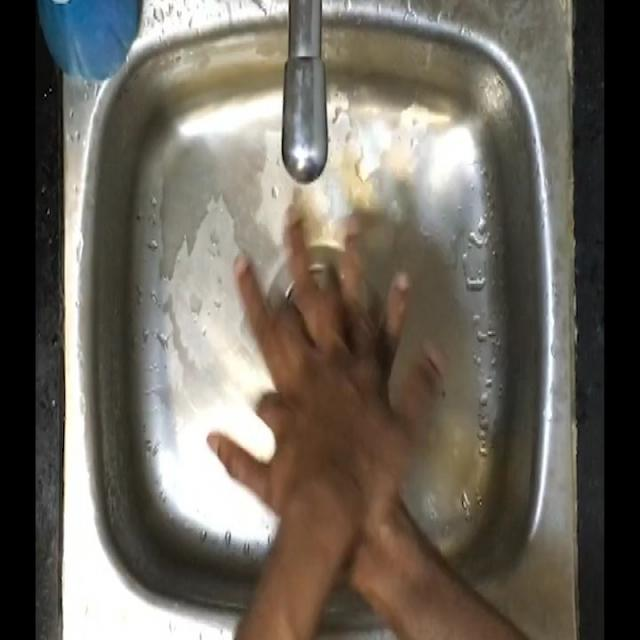step_2: (197, 193, 447, 517)
